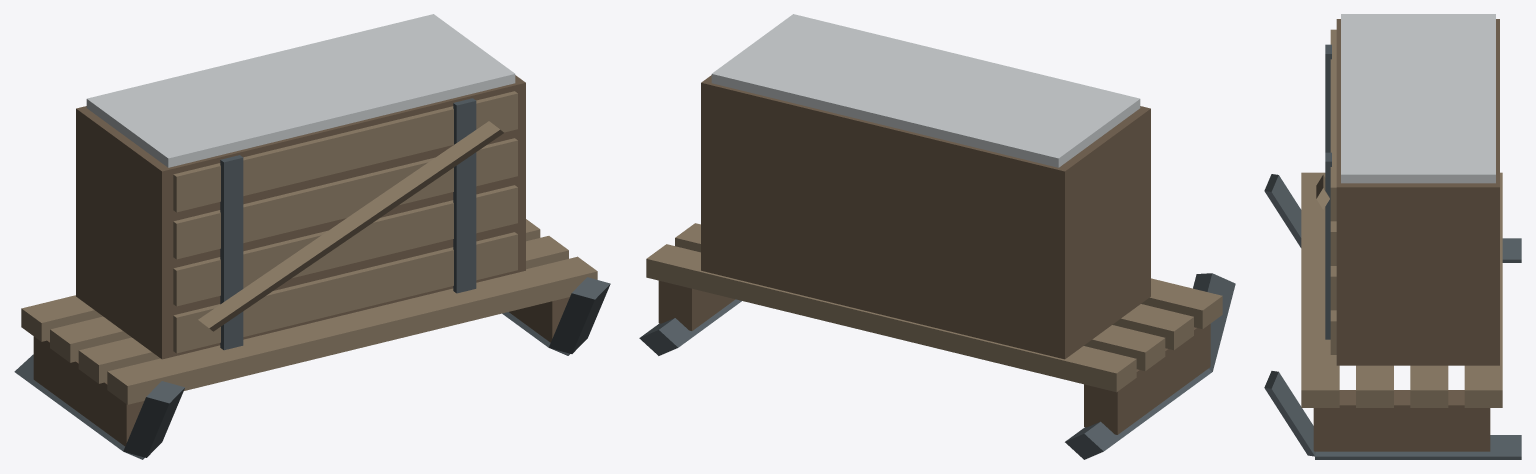
File: sled_load.glb
3 renders of one model, left to right at view 1: azimuth 30°, elevation 25°; view 2: azimuth 150°, elevation 25°; view 3: azimuth 270°, elevation 25°, orthographic. The views are drawn at different scales.
Visible parts, largest first — view 1: sled_load; view 2: sled_load; view 3: sled_load.
Part boxes in pixels (x1,y1,x2,y2): sled_load: (14, 14, 610, 459); sled_load: (639, 14, 1235, 459); sled_load: (1264, 14, 1521, 459).
Size of the model in its own units: 1.92 by 1.1 by 0.96.
